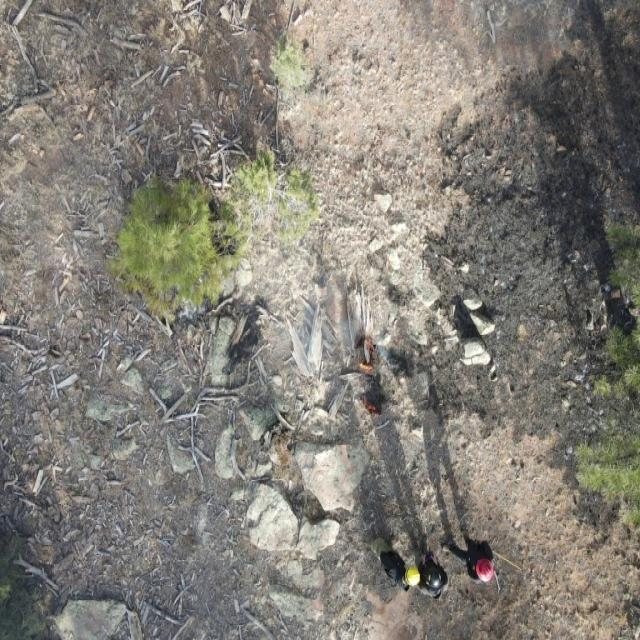fire: (358, 335, 376, 373), (358, 398, 381, 421)
smoke: (219, 208, 381, 378)
